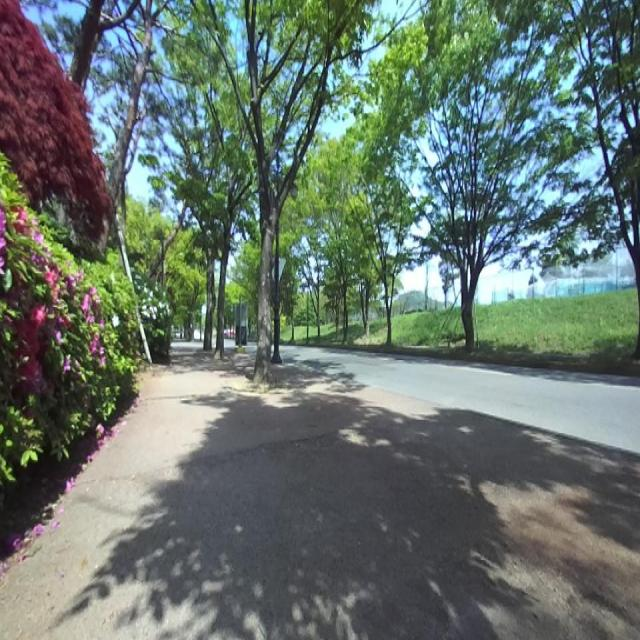sidewalk: (0, 344, 640, 639)
